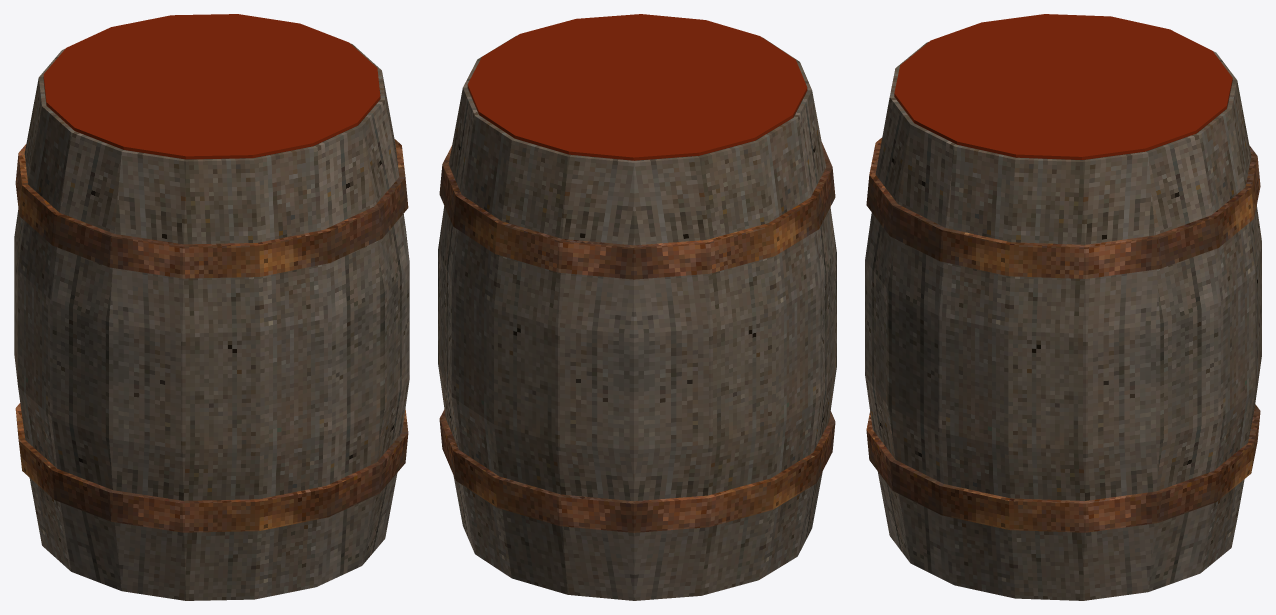
The model's file is GD 3D Barrel 1 Red Top.fbx.
The picture shows the model from 3 angles, left to right: view 1: azimuth 30°, elevation 25°; view 2: azimuth 150°, elevation 25°; view 3: azimuth 270°, elevation 25°; orthographic projection.
Visible parts, largest first — view 1: Barrel 1 IVG 3D.002; view 2: Barrel 1 IVG 3D.002; view 3: Barrel 1 IVG 3D.002.
Part boxes in pixels (x1=…): Barrel 1 IVG 3D.002: x1=14, y1=14, x2=409, y2=600; Barrel 1 IVG 3D.002: x1=438, y1=14, x2=836, y2=600; Barrel 1 IVG 3D.002: x1=865, y1=14, x2=1261, y2=600.
Size of the model in its own units: 84.57 by 104 by 84.57.
